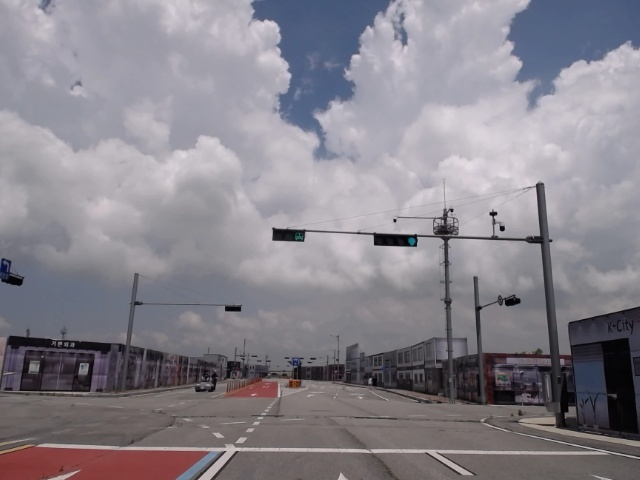straight_green_4: (375, 235, 418, 247)
